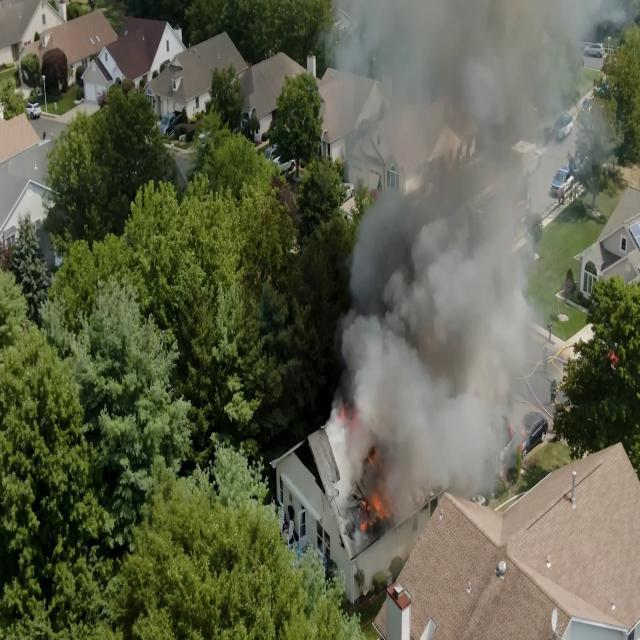Smoke: (378, 0, 526, 239), (354, 221, 511, 407), (323, 398, 465, 501)
